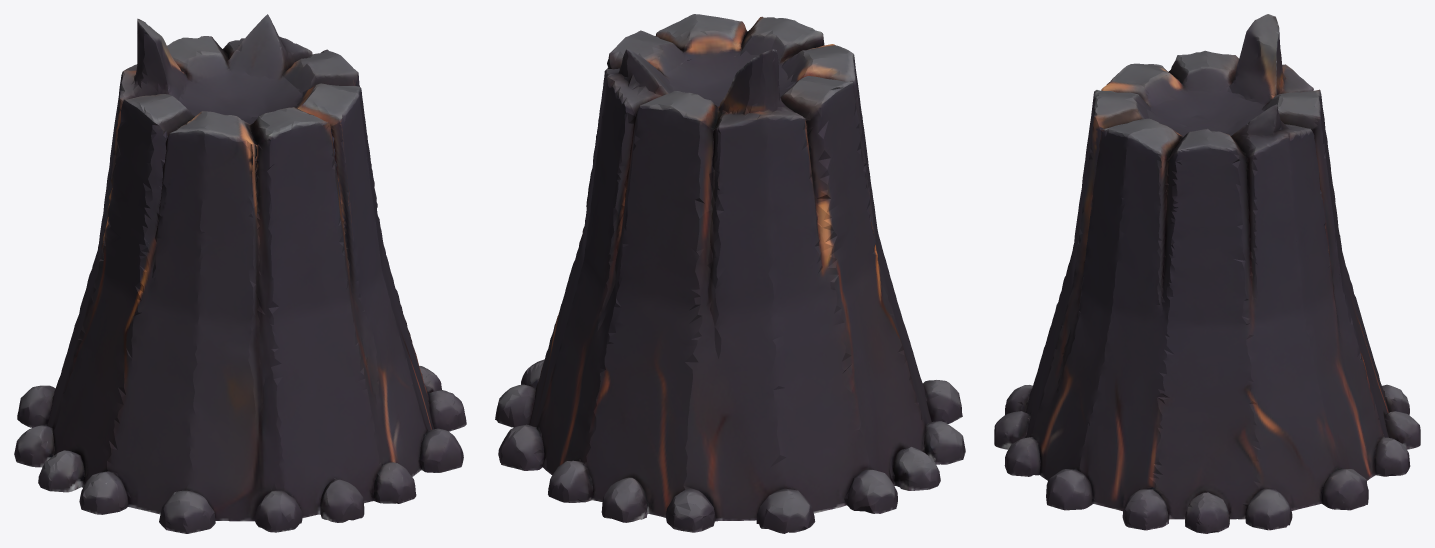
File: rodin_Forge_BrokenColumn_raw.glb
3 views of the same model, side by side, from view 1: azimuth 30°, elevation 25°; view 2: azimuth 150°, elevation 25°; view 3: azimuth 270°, elevation 25° (orthographic). The views are drawn at different scales.
Visible parts, largest first — view 1: model; view 2: model; view 3: model.
Boxes of the visible parts, x1,y1,x2,y2 form: model: (14, 14, 466, 533); model: (495, 14, 965, 533); model: (994, 14, 1420, 533).
Size of the model in its own units: 1.78 by 1.76 by 1.72.
Materials: 1 (1 with a texture image).
